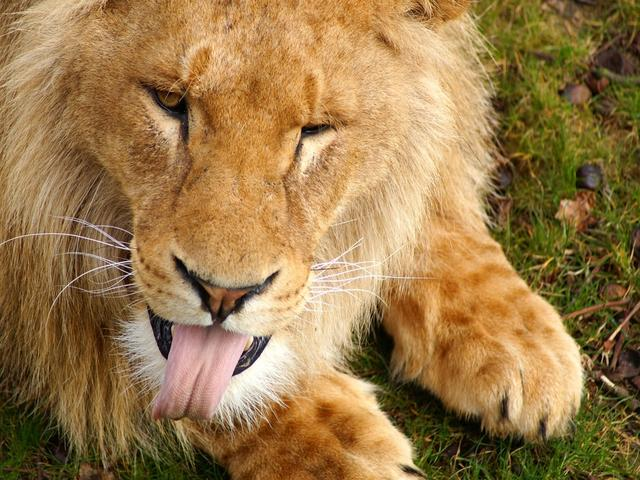lion: (5, 3, 570, 480)
